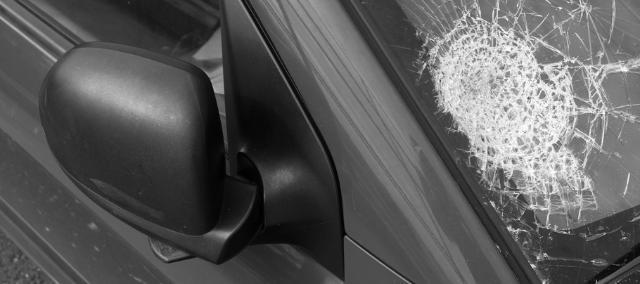Windshield: (403, 1, 640, 251)
